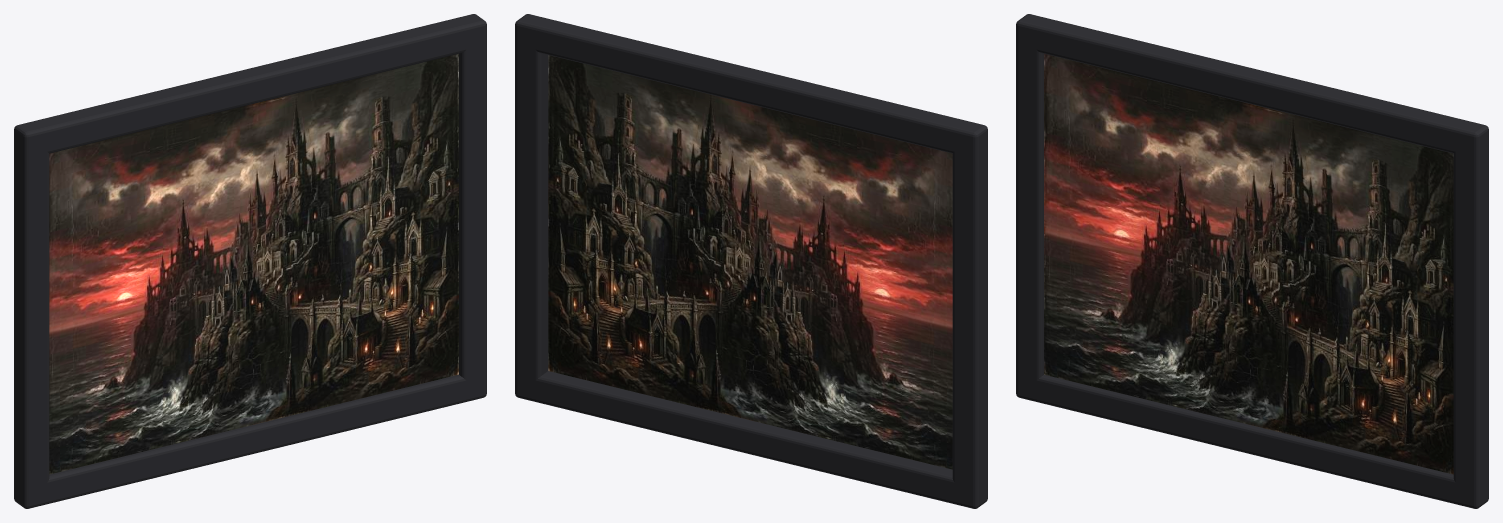
File: art_necropolis_cliff.glb
3 renders of one model, left to right at view 1: azimuth 30°, elevation 25°; view 2: azimuth 150°, elevation 25°; view 3: azimuth 330°, elevation 25°, orthographic.
Visible parts, largest first — view 1: GD_art_necropolis_cliff__m0, GD_art_necropolis_cliff__m1; view 2: GD_art_necropolis_cliff__m0, GD_art_necropolis_cliff__m1; view 3: GD_art_necropolis_cliff__m0, GD_art_necropolis_cliff__m1.
Part boxes in pixels (x1,y1,x2,y2): GD_art_necropolis_cliff__m0: [49, 53, 458, 474]; GD_art_necropolis_cliff__m1: [14, 14, 486, 508]; GD_art_necropolis_cliff__m0: [548, 55, 952, 469]; GD_art_necropolis_cliff__m1: [515, 14, 987, 508]; GD_art_necropolis_cliff__m0: [1044, 53, 1453, 474]; GD_art_necropolis_cliff__m1: [1016, 14, 1488, 508].
Bounding box in the file's own units: 1.26 × 0.98 × 0.06.
Materials: 2 (1 with a texture image).
